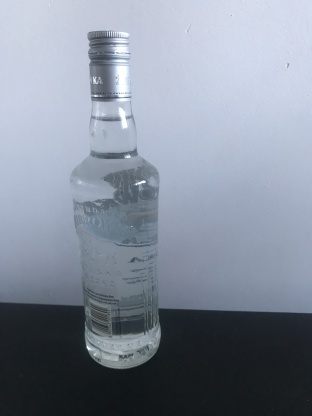nakretka: (86, 29, 133, 103)
